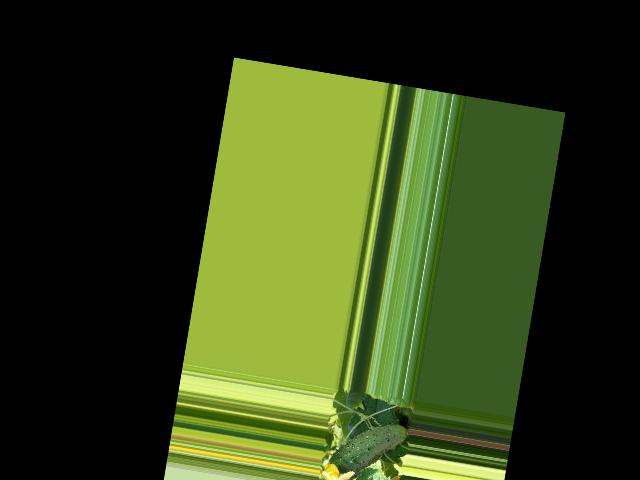cucumber: (326, 414, 412, 480)
